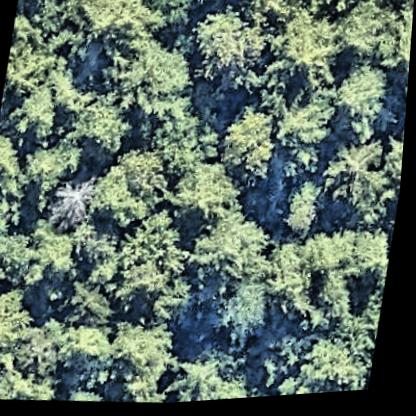tree-top: (268, 224, 398, 324), (90, 35, 205, 131), (107, 203, 204, 307), (274, 312, 386, 400), (82, 145, 181, 234), (256, 9, 346, 98), (192, 209, 283, 295), (186, 7, 273, 92), (15, 209, 88, 299), (269, 99, 342, 184), (148, 103, 226, 181), (217, 107, 285, 196), (66, 0, 167, 58), (4, 6, 68, 96), (170, 158, 247, 225), (109, 319, 181, 388), (330, 0, 402, 69), (333, 64, 396, 142), (213, 280, 280, 350), (71, 92, 138, 161), (329, 172, 401, 234), (23, 134, 89, 198), (6, 79, 75, 140), (55, 274, 122, 336), (0, 352, 69, 406), (18, 318, 80, 378), (166, 353, 235, 406), (281, 180, 333, 244), (0, 283, 41, 364), (47, 175, 101, 236), (130, 0, 218, 32), (74, 319, 123, 376), (0, 133, 38, 206), (0, 226, 39, 296), (206, 369, 279, 404), (119, 365, 175, 408), (78, 226, 126, 272), (388, 6, 414, 74)
